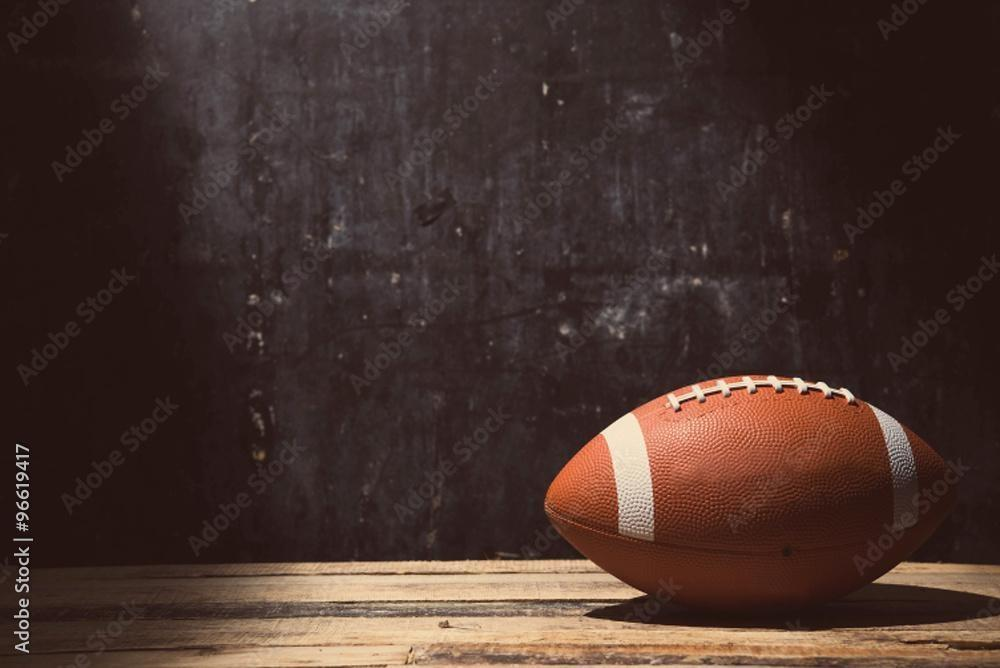Sports-Ball: (545, 375, 959, 611)
